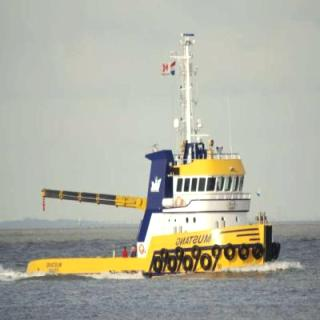Tug Boat: (32, 122, 288, 274)
